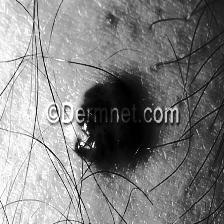Benign Marking or Mole: (79, 85, 145, 152)
